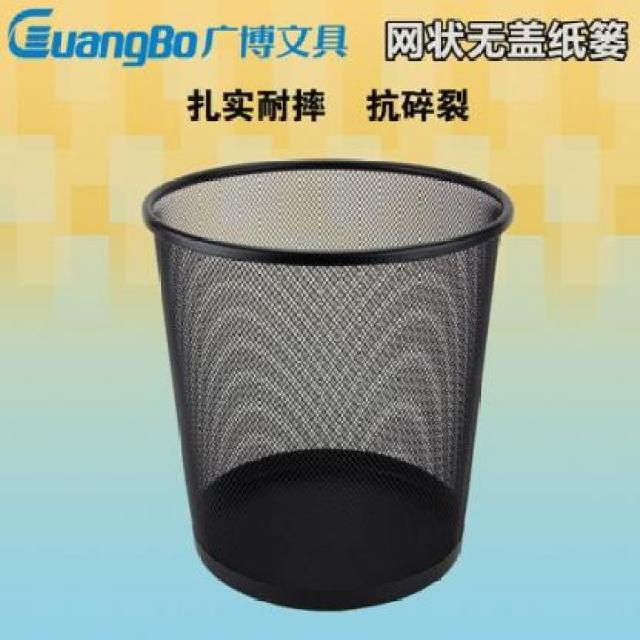dustbin: (137, 154, 518, 616)
